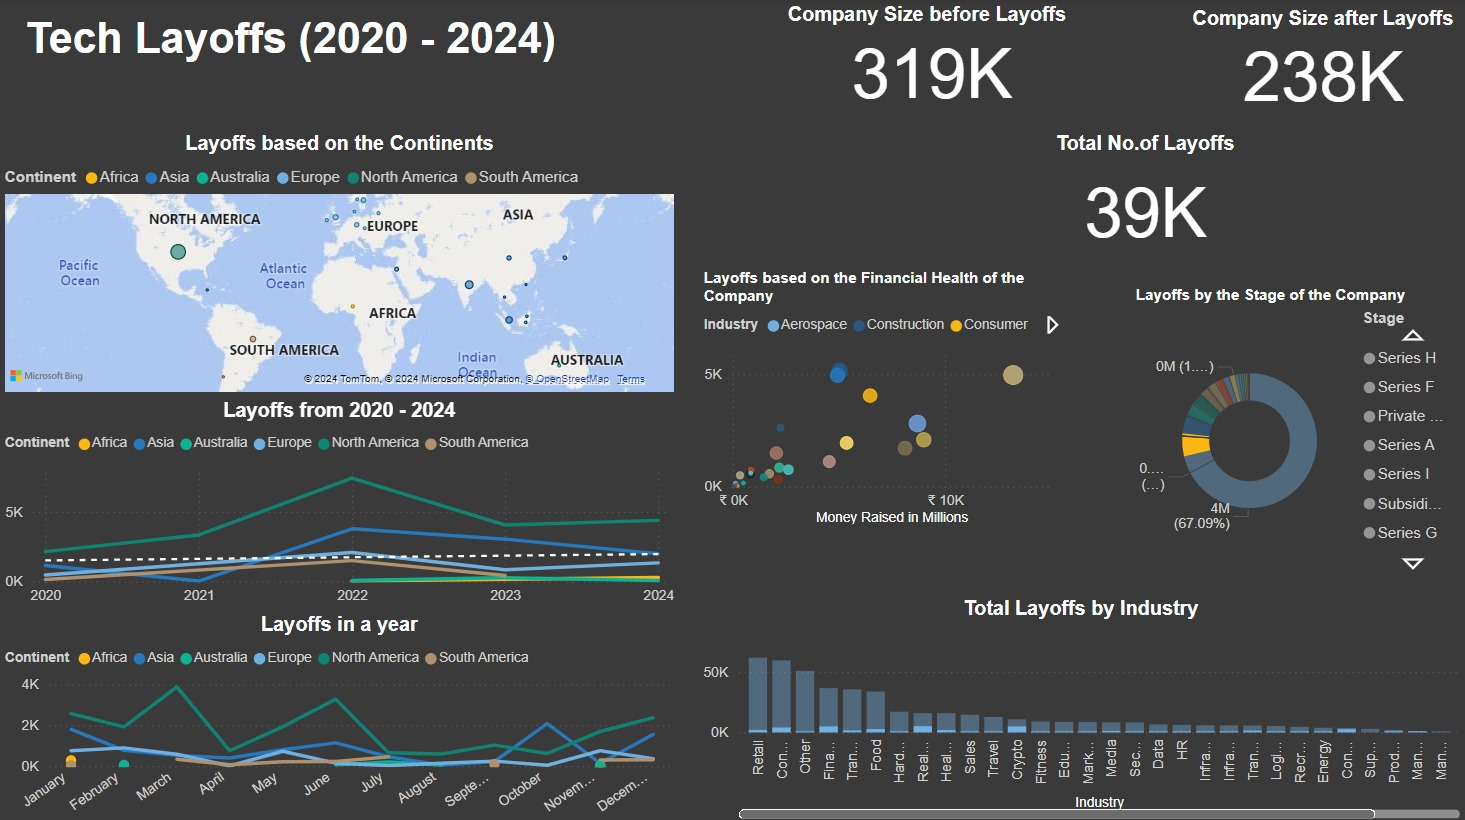

The dashboard page shown, as its layout file describes it:
{"tool":"powerbi","page":{"name":"Page 1","canvas":[1280,720],"ordinal":0},"visuals":[{"type":"map","title":"Layoffs based on the Continents","fields":{"Category":["Tech-Layoff.Country"],"Size":["Sum(Tech-Layoff.Laid_Off)"],"Series":["Tech-Layoff.Continent"]},"box":[0,116.9,593.4,232.4],"z":0},{"type":"lineChart","title":" Layoffs in a year","fields":{"Category":["Tech-Layoff.Date_layoffs.Variation.Date Hierarchy.Month"],"Y":["Sum(Tech-Layoff.Laid_Off)"],"Series":["Tech-Layoff.Continent"]},"box":[0,536.4,593.4,184.1],"z":1000},{"type":"lineChart","title":"Layoffs from 2020 - 2024","fields":{"Category":["Tech-Layoff.Date_layoffs.Variation.Date Hierarchy.Year","Tech-Layoff.Date_layoffs.Variation.Date Hierarchy.Quarter","Tech-Layoff.Date_layoffs.Variation.Date Hierarchy.Month","Tech-Layoff.Date_layoffs.Variation.Date Hierarchy.Day"],"Y":["Sum(Tech-Layoff.Laid_Off)"],"Series":["Tech-Layoff.Continent"]},"box":[0,349.3,593.4,187.1],"z":2000},{"type":"donutChart","title":"Layoffs by the Stage of the Company","fields":{"Y":["Sum(Tech-Layoff.Company_Size_before_Layoffs)","Sum(Tech-Layoff.Percentage)","Sum(Tech-Layoff.Laid_Off)"],"Category":["Tech-Layoff.Stage"]},"box":[985.7,251.4,293.8,254.4],"z":3000},{"type":"columnChart","title":" Total Layoffs by Industry","fields":{"Category":["Tech-Layoff.Industry"],"Y":["Sum(Tech-Layoff.Total No. of Layoffs)"]},"box":[608.3,522,670.2,198.5],"z":4000},{"type":"scatterChart","title":"Layoffs based on the Financial Health of the Company","fields":{"X":["Sum(Tech-Layoff.Money_Raised_in_$_mil)"],"Size":["Sum(Tech-Layoff.Company_Size_before_Layoffs)"],"Y":["Sum(Tech-Layoff.Laid_Off)"],"Series":["Tech-Layoff.Industry"]},"box":[608.7,236.2,328.6,227.1],"z":5000},{"type":"card","title":"Total No.of Layoffs","fields":{"Values":["Sum(Tech-Layoff.Total No. of Layoffs)"]},"box":[884.3,116.6,230.2,110.5],"z":6000},{"type":"card","title":"Company Size after Layoffs","fields":{"Values":["Sum(Tech-Layoff.Company Size after layoffs)"]},"box":[1029.7,7.6,249.8,90.9],"z":7000},{"type":"card","title":"Company Size before Layoffs","fields":{"Values":["Sum(Tech-Layoff.Company Size before Layoffs)"]},"box":[682.9,4.5,260.4,93.9],"z":8000},{"type":"textbox","box":[18.2,7.6,490.6,54.5],"z":9000}]}

Visuals, with their boxes in screenshot pixels (x1, y1, x2, y2), scaled from the page's 1280x720 canvas onto the 1465x820 screenshot:
"Layoffs based on the Continents" map: bbox=(0, 133, 679, 398)
" Layoffs in a year" lineChart: bbox=(0, 611, 679, 819)
"Layoffs from 2020 - 2024" lineChart: bbox=(0, 398, 679, 611)
"Layoffs by the Stage of the Company" donutChart: bbox=(1128, 286, 1464, 576)
" Total Layoffs by Industry" columnChart: bbox=(696, 594, 1463, 819)
"Layoffs based on the Financial Health of the Company" scatterChart: bbox=(697, 269, 1073, 528)
"Total No.of Layoffs" card: bbox=(1012, 133, 1276, 259)
"Company Size after Layoffs" card: bbox=(1179, 9, 1464, 112)
"Company Size before Layoffs" card: bbox=(782, 5, 1080, 112)
textbox: bbox=(21, 9, 582, 71)
